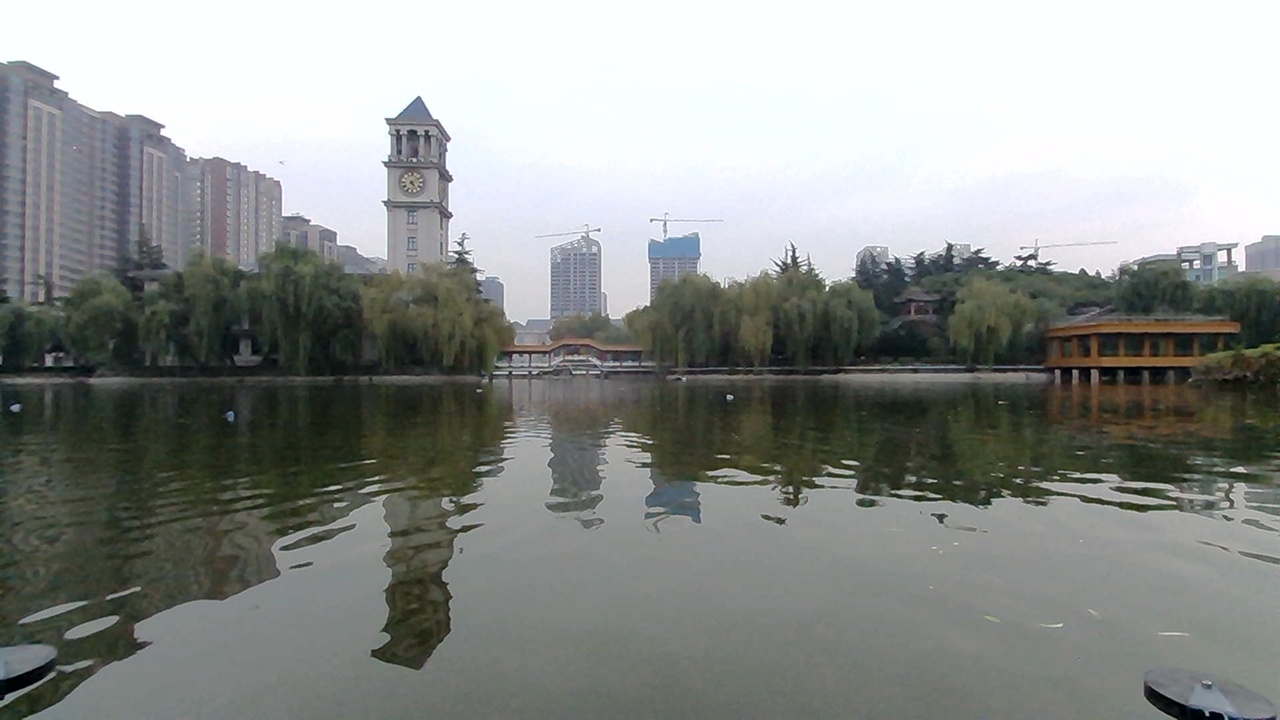bottle: (704, 386, 747, 410), (219, 405, 253, 427), (4, 389, 25, 417)
